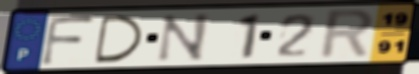1: (235, 12, 265, 60)
2: (274, 13, 317, 58)
D: (93, 14, 147, 65)
F: (38, 14, 98, 67)
N: (154, 12, 212, 63)
R: (316, 7, 378, 61)
